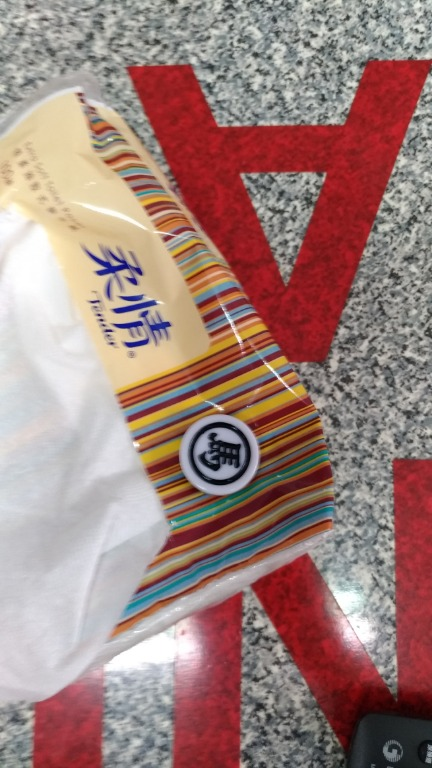b-knight: (153, 407, 296, 507)
